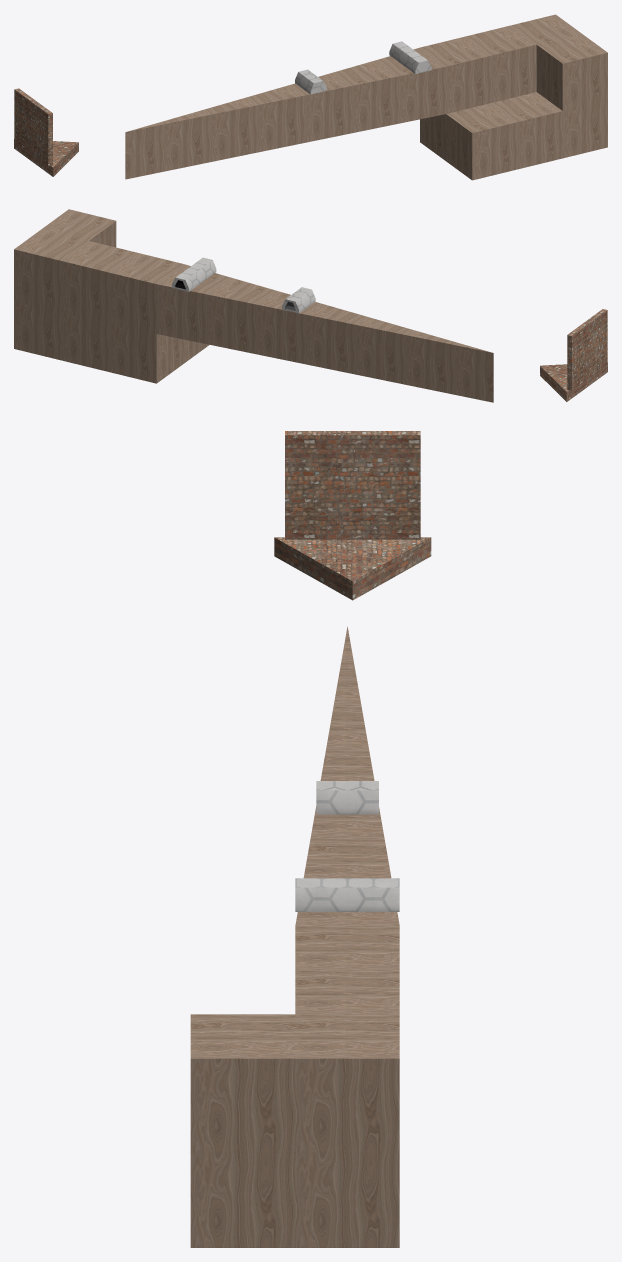
Rendered from fingerGunModel.fbx.
3 views of the same model, one above another, from view 1: azimuth 30°, elevation 25°; view 2: azimuth 150°, elevation 25°; view 3: azimuth 270°, elevation 25° (orthographic). The views are drawn at different scales.
Parts seen in each view (by area): view 1: roof_default_13, block_default_11, block_default_7, block_default_9, block_default_17, roof_default_16, engine_barrelTop_0, engine_barrelTop_1; view 2: roof_default_13, block_default_9, block_default_11, block_default_17, roof_default_16, engine_barrelTop_0, engine_barrelTop_1, block_default_7; view 3: block_default_11, block_default_17, roof_default_13, block_default_9, roof_default_16, engine_barrelTop_0, engine_barrelTop_1.
Boxes of the visible parts, x1,y1,x2,y2 form: roof_default_13: [125, 47, 445, 179]; block_default_11: [511, 14, 607, 158]; block_default_7: [446, 92, 562, 180]; block_default_9: [420, 25, 536, 160]; block_default_17: [14, 88, 52, 166]; roof_default_16: [14, 139, 78, 176]; engine_barrelTop_0: [389, 41, 431, 73]; engine_barrelTop_1: [295, 69, 326, 94]; roof_default_13: [156, 264, 493, 402]; block_default_9: [61, 241, 183, 383]; block_default_11: [14, 209, 116, 360]; block_default_17: [567, 309, 607, 390]; roof_default_16: [540, 362, 607, 401]; engine_barrelTop_0: [172, 257, 216, 291]; engine_barrelTop_1: [282, 287, 315, 313]; block_default_7: [184, 339, 209, 363]; block_default_11: [190, 1014, 399, 1247]; block_default_17: [285, 431, 420, 539]; roof_default_13: [295, 626, 399, 925]; block_default_9: [295, 926, 399, 1014]; roof_default_16: [274, 537, 431, 600]; engine_barrelTop_0: [295, 878, 399, 911]; engine_barrelTop_1: [316, 781, 378, 814].
Size of the model in its own units: 118 by 31 by 23.
5 materials, 3 textured.
